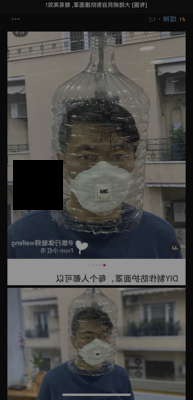with_mask: (68, 144, 134, 213), (75, 330, 111, 366)
